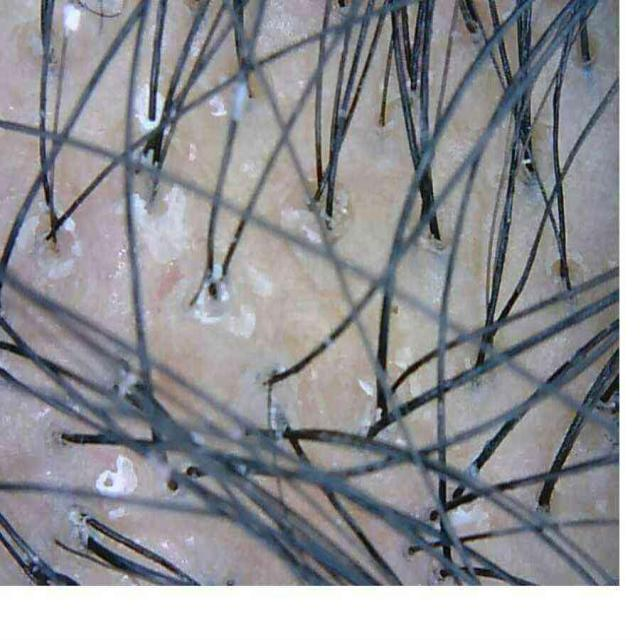d: (118, 184, 186, 263), (195, 260, 256, 336), (95, 457, 139, 494), (135, 81, 167, 131), (448, 504, 491, 537), (11, 213, 42, 256), (50, 198, 79, 233), (231, 80, 248, 120), (210, 90, 230, 120), (63, 4, 83, 32), (353, 373, 374, 398), (303, 222, 321, 246), (108, 506, 125, 520)
